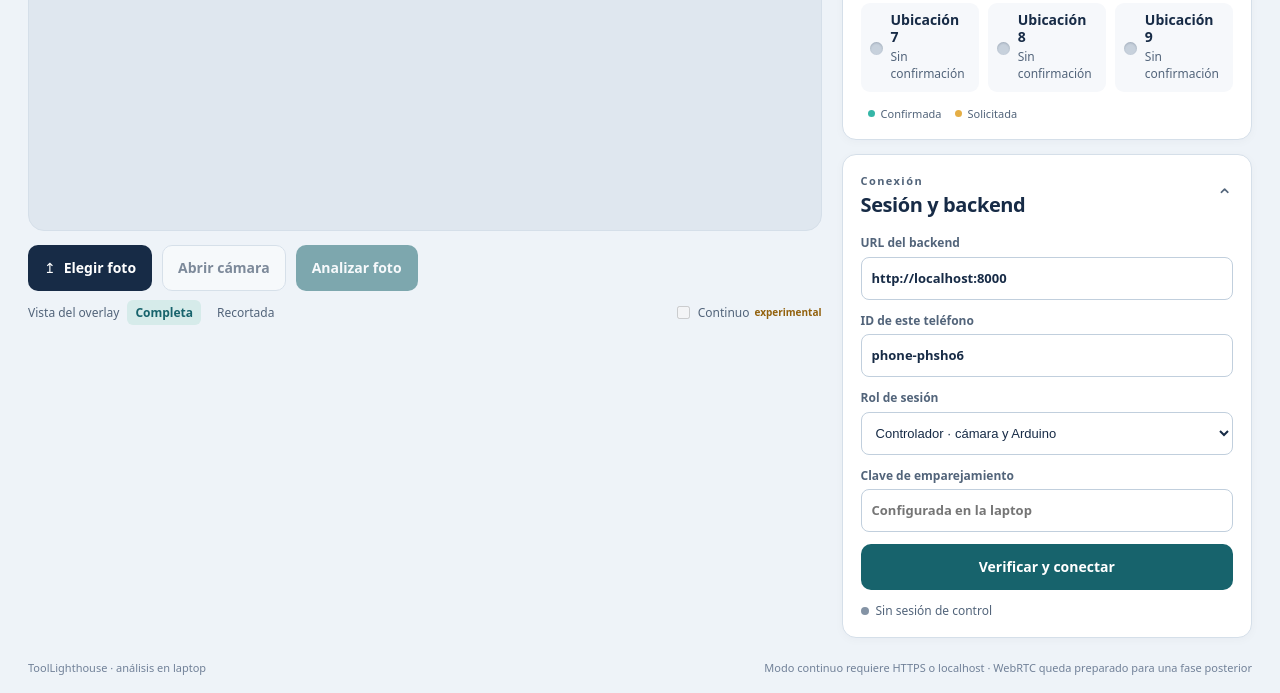
Test: Simulated UI Integration - Review Findings Regressions (JSDOM with mocked APIs) › ignores a rollback refresh that resolves after the session identity changed
(page scrolled)
Select "Administrador · configuración, calibración y hardware" in the dropdown labelled "Rol de sesión": (1047, 433) [860,412,1233,455]
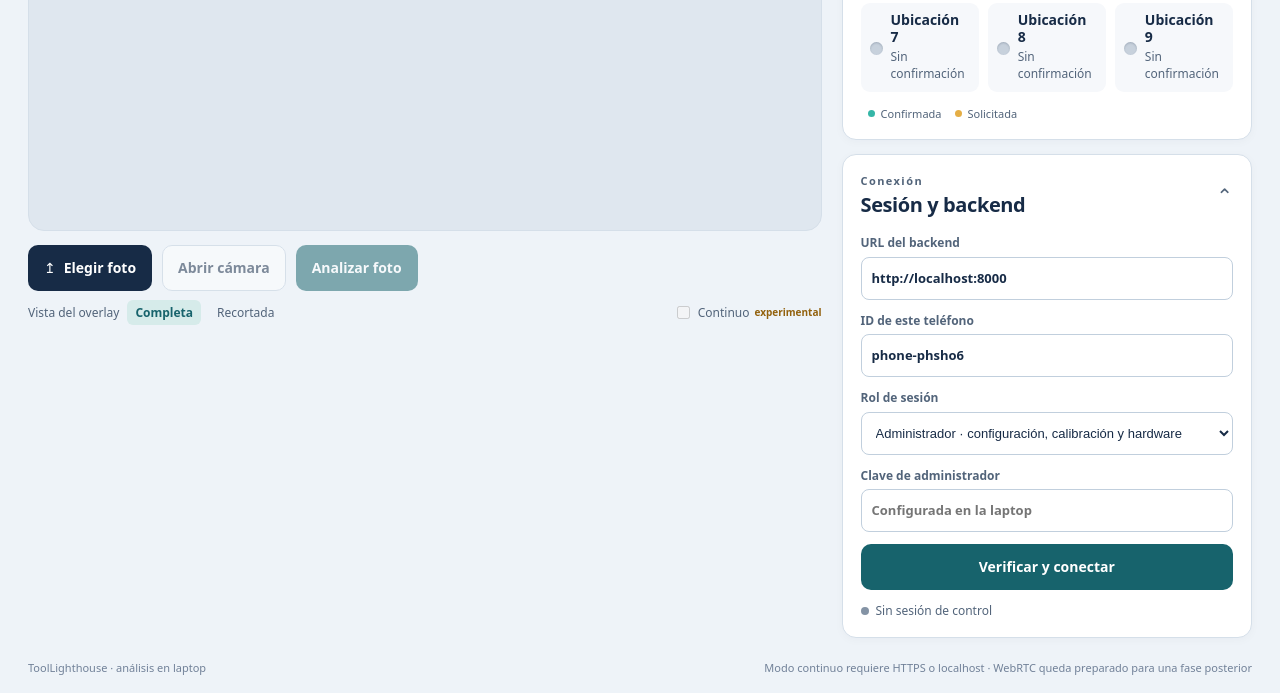
Click the button "Verificar y conectar": (1047, 567) [860,544,1233,590]
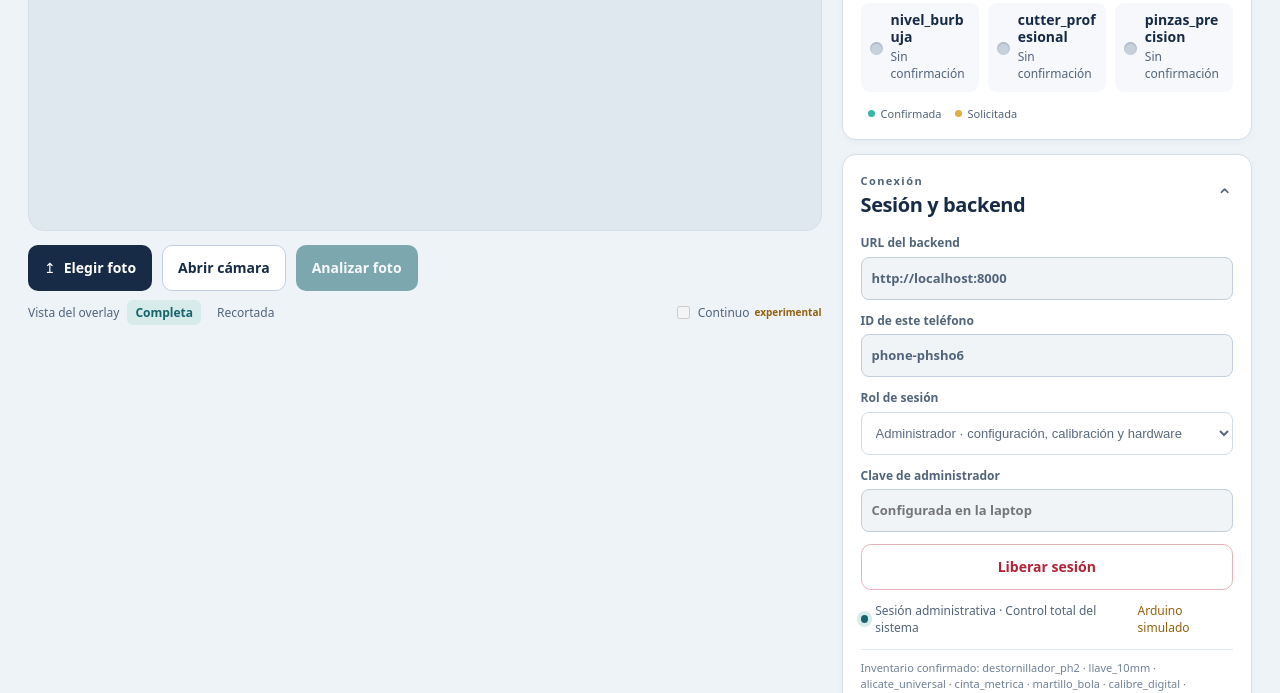
Result: the text "Sesión administrativa" is shown at [875,602,1096,636]
Click the button "Liberar sesión": (1047, 567) [860,544,1233,590]
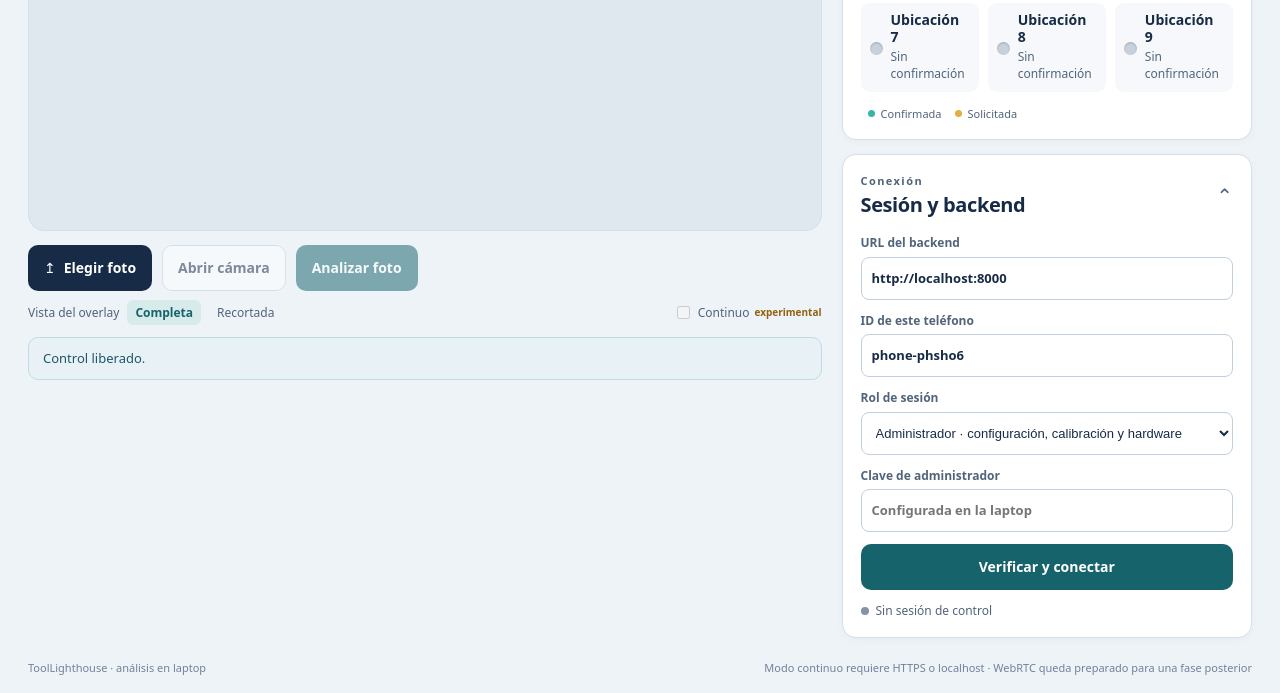
Result: the button "Verificar y conectar" is shown
Click the button "Verificar y conectar": (1047, 567) [860,544,1233,590]
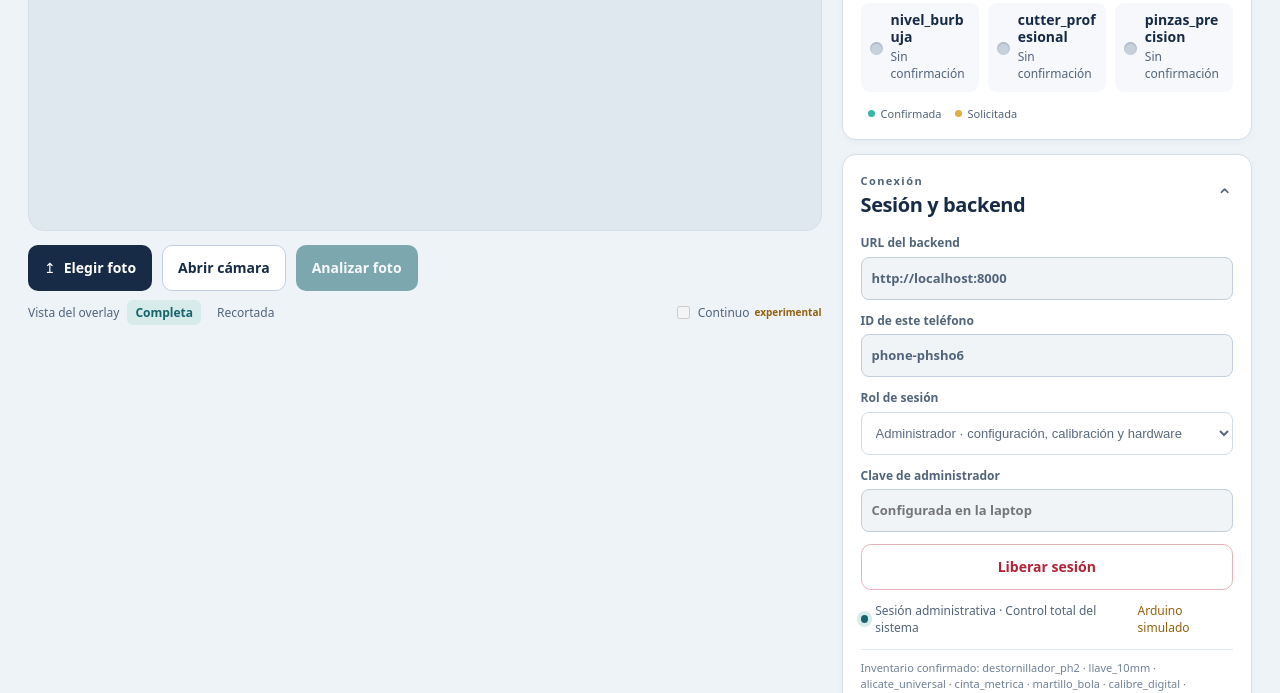
Result: the text "Sesión administrativa" is shown at [875,602,1096,636]
